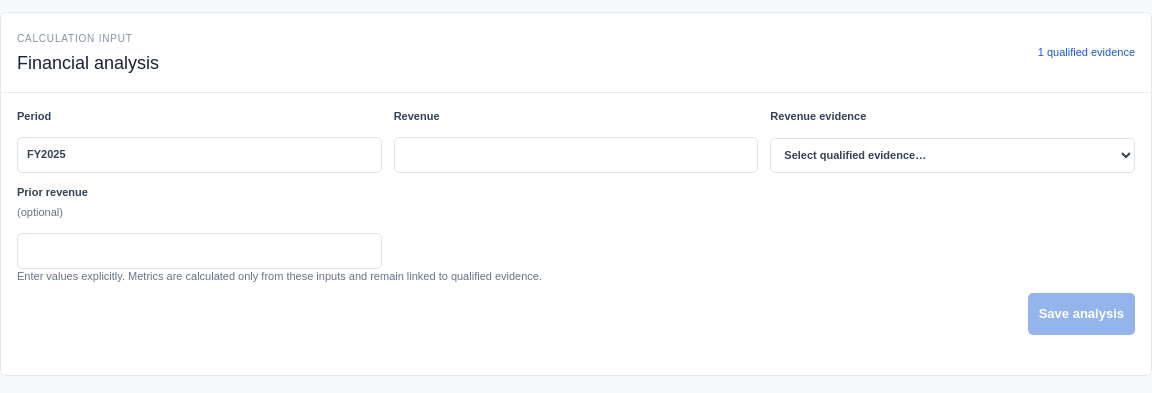
FinancialAnalysisForm › does not enable submission until required inputs and evidence are selected
Expected: the button "Save analysis" is disabled, left=1028, top=293, right=1135, bottom=335
Type "120.00" into the field labelled "Revenue".
click(576, 155); type("120.00")  # box left=394, top=137, right=758, bottom=173
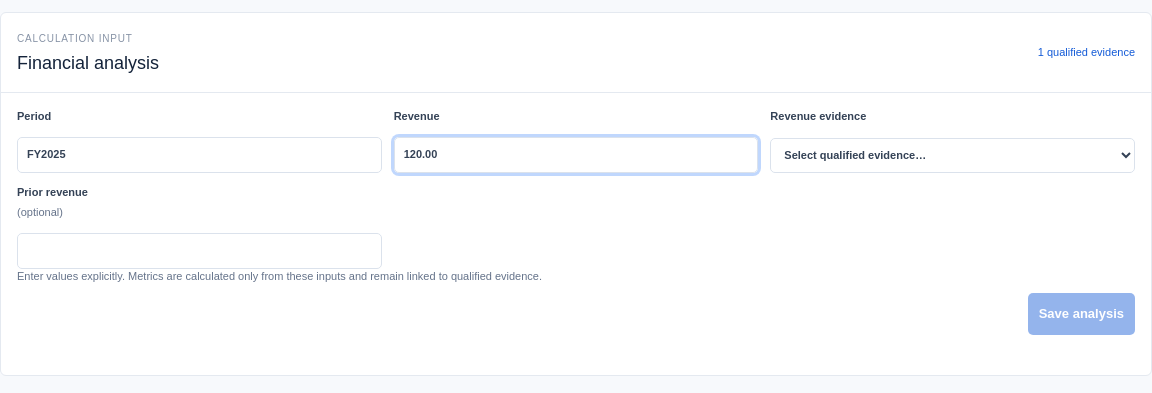
Select "FY2025 filing · SUPPORTING · evidence-qualified" in the dropdown labelled "Revenue evidence" at x=953, y=155, box left=770, top=138, right=1135, bottom=173
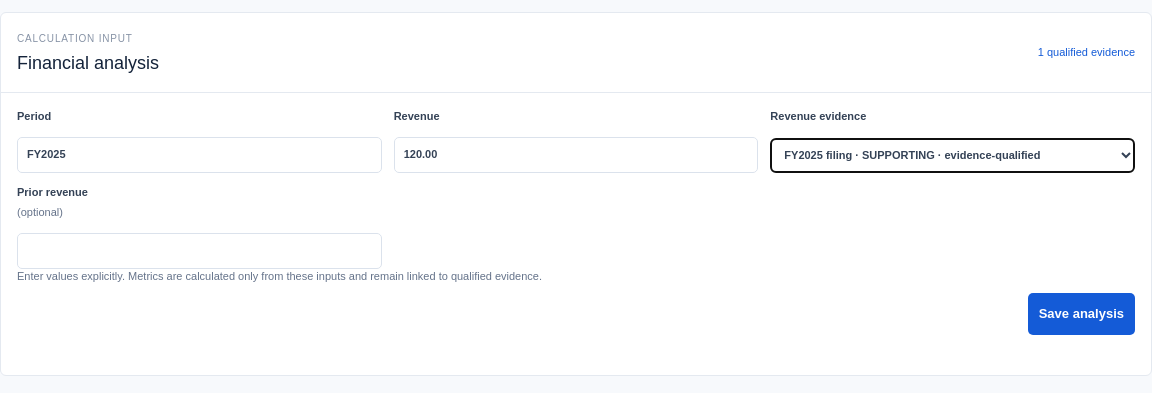
Expected: the button "Save analysis" is enabled, left=1028, top=293, right=1135, bottom=335
